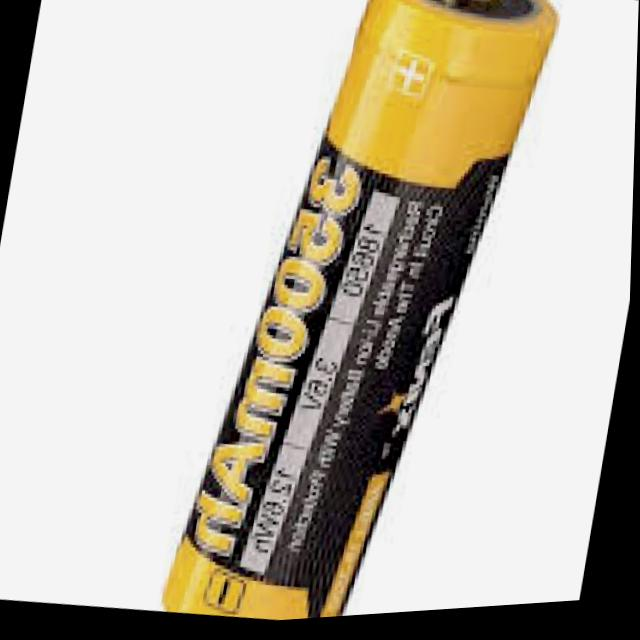B3: (100, 0, 631, 634)
